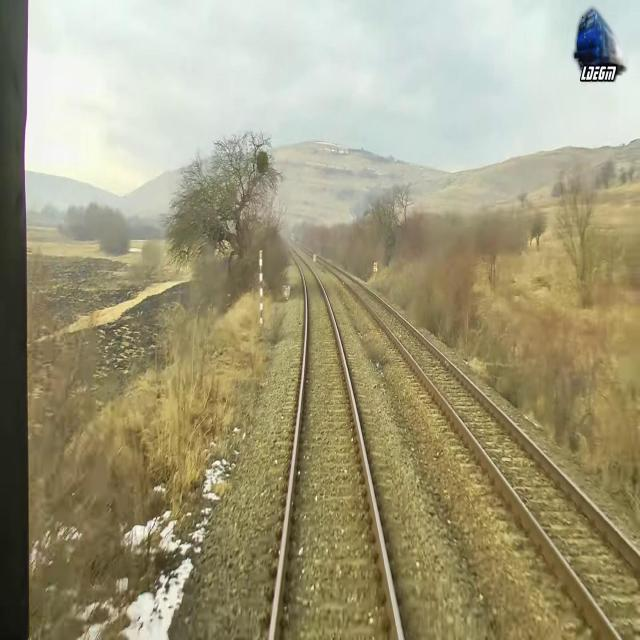rail-track: (297, 244, 640, 639), (273, 242, 399, 639)
